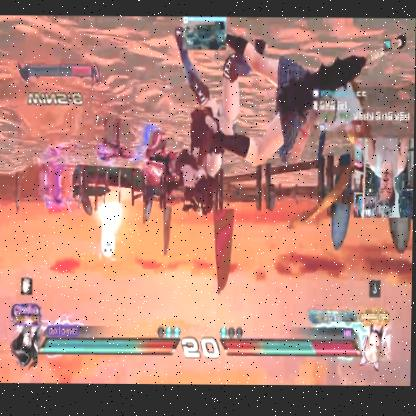streamer: (367, 136, 410, 208)
